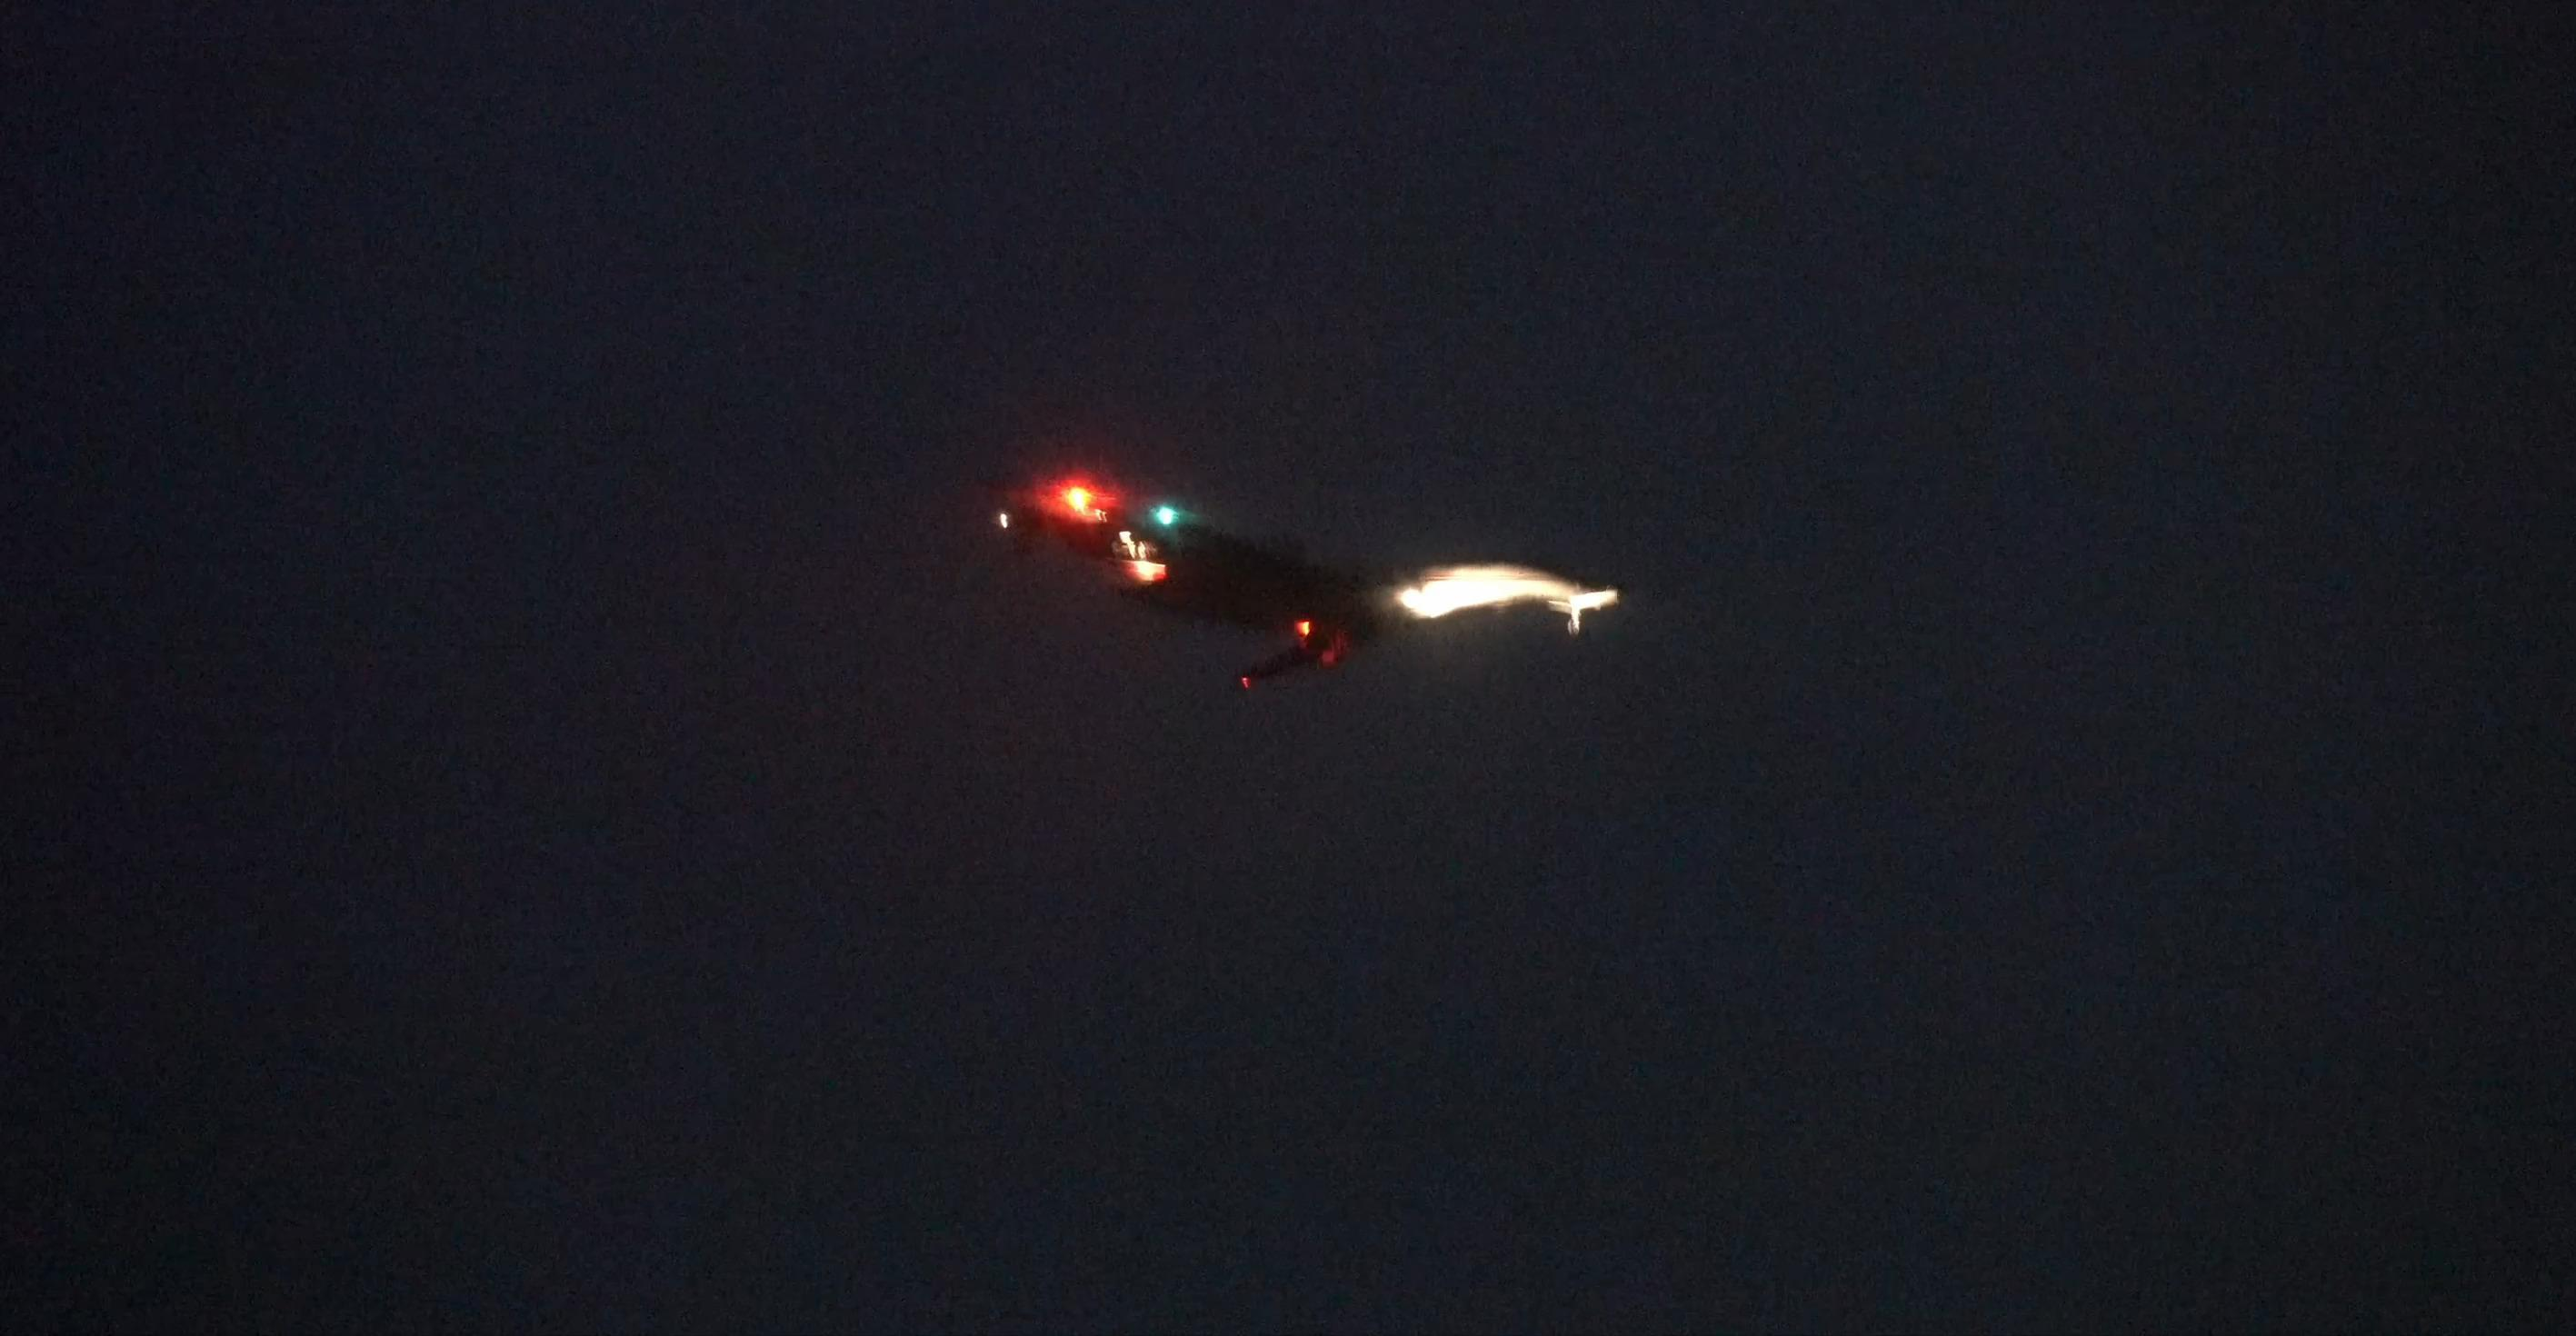Plane: (959, 489, 1590, 714)
